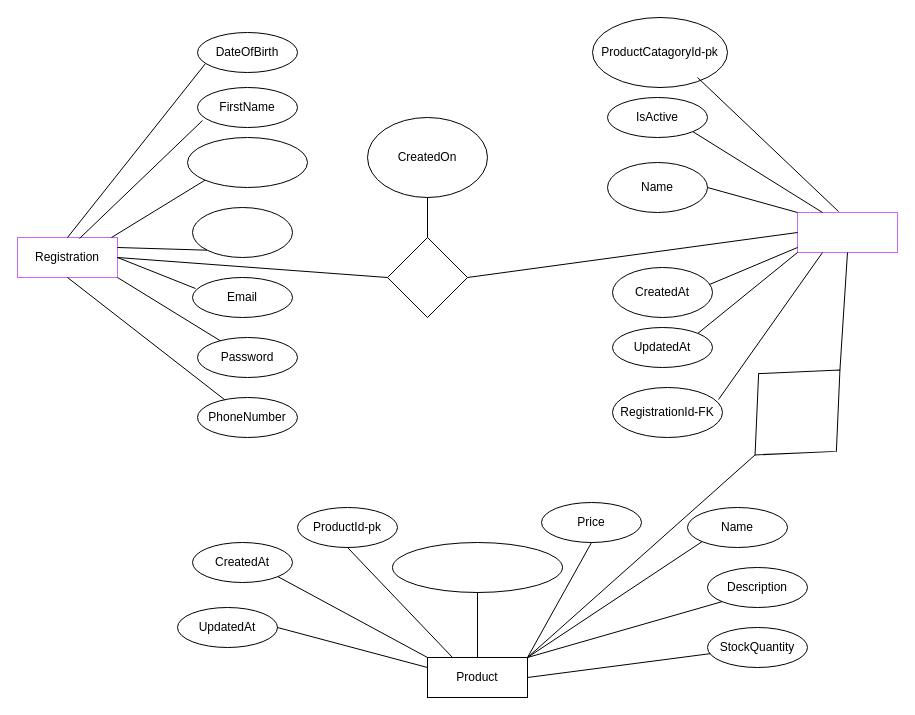
The diagram is 915 pixels wide and 715 high, and some of its shapes have lost their labels. The shapes that lost their labels are listed below. From the top down, each one's centre as x and y in pixels, then its label:
At point 247,162: "RegistrationId-pk".
At point 242,232: "LastName".
At point 847,232: "ProductCatagory".
At point 427,277: "Has".
At point 797,412: "contains".
At point 477,567: "ProductCatagoryId-FK".
